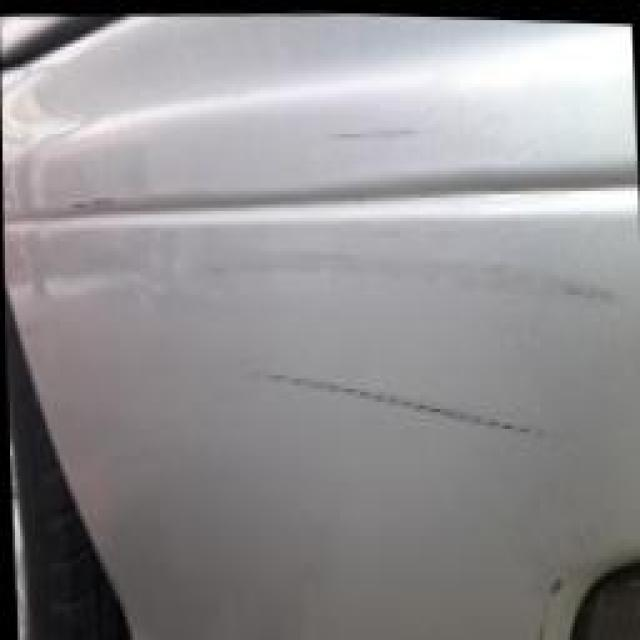Bumper: (55, 74, 639, 507)
